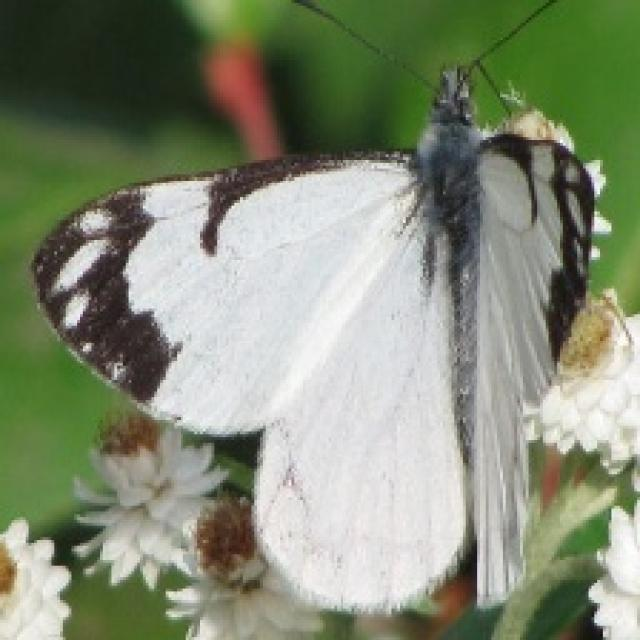butterfly: (28, 0, 597, 614)
